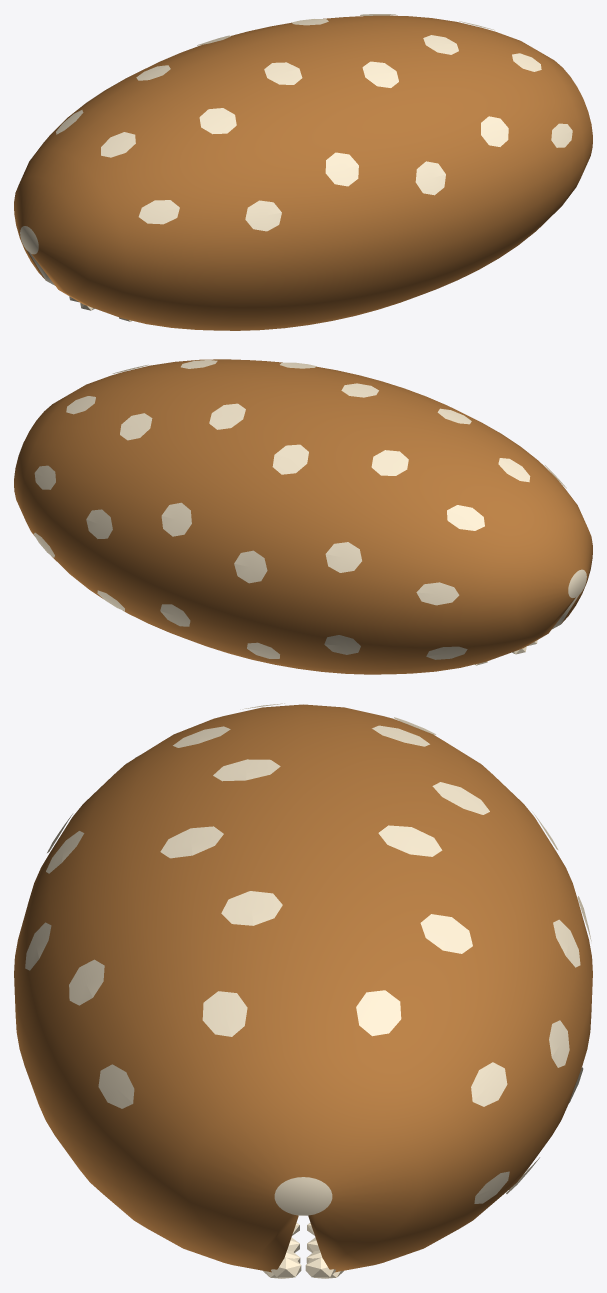
The model's file is shell-cowrie.glb.
3 views of the same model, one above another, from view 1: azimuth 30°, elevation 25°; view 2: azimuth 150°, elevation 25°; view 3: azimuth 270°, elevation 25° (orthographic). The views are drawn at different scales.
Visible parts, largest first — view 1: Glossy caramel cowrie with underside slit, Cream cowrie spot.014, Cream cowrie spot.009, Cream cowrie spot.019, Cream cowrie spot.004, Cream cowrie spot.008, Cream cowrie spot.018, Cream cowrie spot.024, Cream cowrie spot.013, Cream cowrie spot.003, Cream cowrie spot.023, Cream cowrie spot.029; view 2: Glossy caramel cowrie with underside slit, Cream cowrie spot.006, Cream cowrie spot.012, Cream cowrie spot.011, Cream cowrie spot.016, Cream cowrie spot.007, Cream cowrie spot.002, Cream cowrie spot.001, Cream cowrie spot.017, Cream cowrie spot.022, Cream cowrie spot.021, Cream cowrie spot.005 (+3 smaller); view 3: Glossy caramel cowrie with underside slit, Cream cowrie spot.027, Cream cowrie spot.028, Cream cowrie spot.023, Cream cowrie spot.022, Cream cowrie spot.017, Cream cowrie spot.018, Cream cowrie spot.026, Cream cowrie spot.029, Cream cowrie spot.024, Cream cowrie spot.013, Cream cowrie spot.012 (+1 smaller).
Part boxes in pixels (x1,y1,x2,y2): Glossy caramel cowrie with underside slit: (14, 15, 592, 330); Cream cowrie spot.014: (325, 152, 358, 186); Cream cowrie spot.009: (245, 200, 281, 231); Cream cowrie spot.019: (415, 161, 445, 195); Cream cowrie spot.004: (138, 200, 179, 224); Cream cowrie spot.008: (199, 108, 236, 134); Cream cowrie spot.018: (362, 61, 398, 87); Cream cowrie spot.024: (481, 116, 508, 146); Cream cowrie spot.013: (264, 62, 302, 84); Cream cowrie spot.003: (101, 132, 135, 157); Cream cowrie spot.023: (423, 35, 458, 54); Cream cowrie spot.029: (551, 123, 572, 147); Glossy caramel cowrie with underside slit: (14, 359, 592, 674); Cream cowrie spot.006: (325, 542, 361, 572); Cream cowrie spot.012: (272, 444, 308, 474); Cream cowrie spot.011: (234, 550, 267, 583); Cream cowrie spot.016: (161, 502, 191, 536); Cream cowrie spot.007: (371, 450, 408, 475); Cream cowrie spot.002: (447, 505, 484, 530); Cream cowrie spot.001: (416, 582, 459, 605); Cream cowrie spot.017: (209, 403, 245, 429); Cream cowrie spot.022: (120, 413, 152, 440); Cream cowrie spot.021: (86, 509, 112, 538); Cream cowrie spot.005: (324, 635, 360, 654); Glossy caramel cowrie with underside slit: (14, 704, 592, 1272); Cream cowrie spot.027: (356, 990, 401, 1036); Cream cowrie spot.028: (202, 991, 247, 1036); Cream cowrie spot.023: (221, 891, 282, 925); Cream cowrie spot.022: (420, 914, 472, 953); Cream cowrie spot.017: (378, 825, 442, 856); Cream cowrie spot.018: (160, 826, 223, 858); Cream cowrie spot.026: (471, 1062, 507, 1106); Cream cowrie spot.029: (98, 1064, 134, 1108); Cream cowrie spot.024: (69, 959, 104, 1005); Cream cowrie spot.013: (213, 759, 280, 781); Cream cowrie spot.012: (432, 782, 489, 814).
Bounding box in the file's own units: 1.55 × 0.6899 × 0.917.
